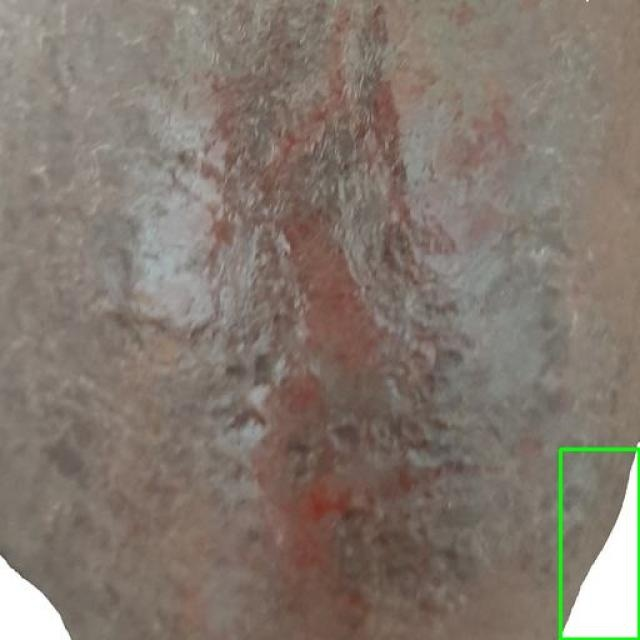Contact Dermatitis: (560, 449, 639, 639)
